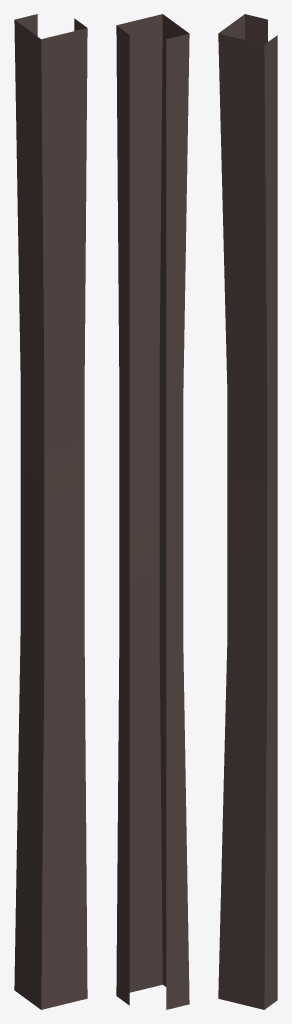
File: Module_Building_Corner_Joint_L.fbx
3 views of the same model, side by side, from view 1: azimuth 30°, elevation 25°; view 2: azimuth 210°, elevation 25°; view 3: azimuth 330°, elevation 25° (orthographic).
Visible parts, largest first — view 1: Module_Building_Corner_Joint_L; view 2: Module_Building_Corner_Joint_L; view 3: Module_Building_Corner_Joint_L.
Part boxes in pixels (box(x1,y1,x2,y2)): Module_Building_Corner_Joint_L: box(14, 14, 87, 1009); Module_Building_Corner_Joint_L: box(116, 14, 189, 1009); Module_Building_Corner_Joint_L: box(218, 14, 277, 1009).
Size of the model in its own units: 10 by 200 by 10.
